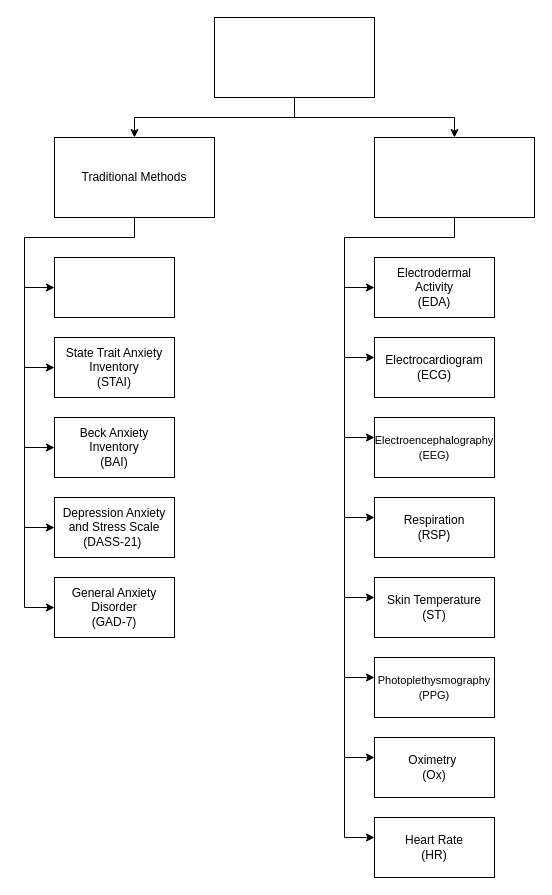
Image size: 552x895. Some labels were removed from this diagram. Here are the shapes that lost their labels. From the top down, the box of each, then its label:
(214, 16, 374, 98): Methods of Anxiety Detection
(374, 136, 534, 218): Technical Methods
(54, 256, 174, 318): Hamilton Anxiety Rating Scale (HAM-A)
